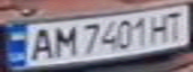0: (115, 17, 136, 51)
1: (130, 14, 151, 47)
4: (100, 18, 121, 53)
7: (75, 20, 103, 56)
A: (21, 26, 57, 62)
H: (145, 10, 175, 44)
M: (48, 22, 78, 58)
T: (163, 7, 190, 42)
